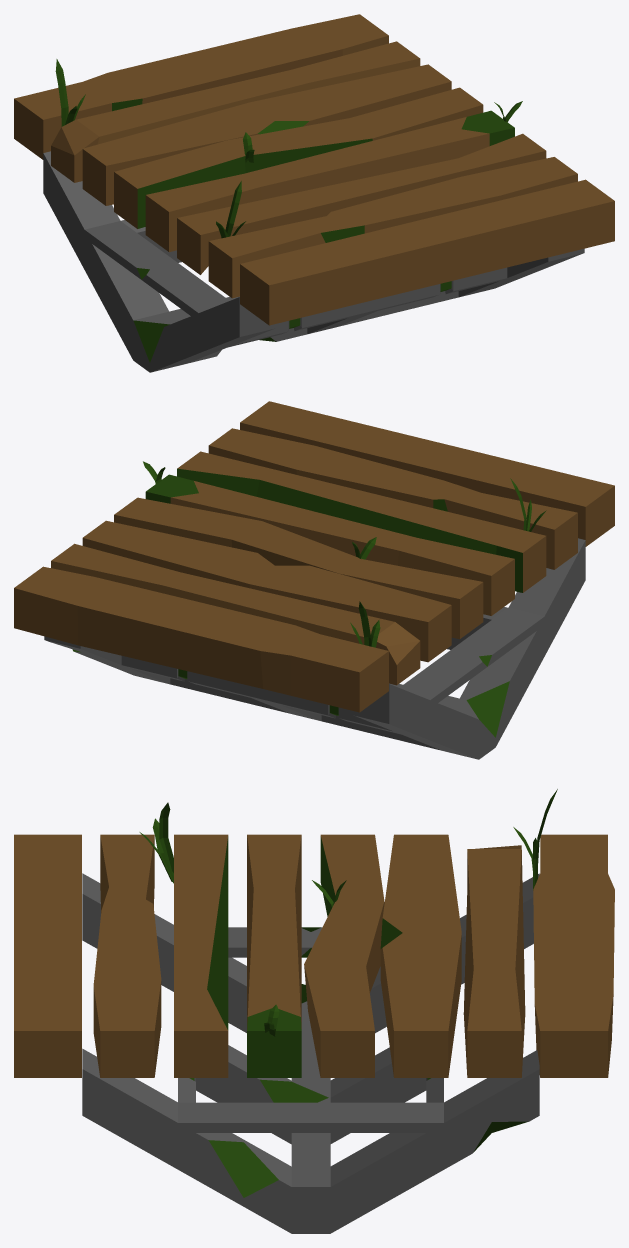
File: PonteMeioDesgaste.glb
3 views of the same model, one above another, from view 1: azimuth 30°, elevation 25°; view 2: azimuth 150°, elevation 25°; view 3: azimuth 270°, elevation 25° (orthographic). The views are drawn at different scales.
Parts seen in each view (by area): view 1: Cube; view 2: Cube; view 3: Cube.
Part boxes in pixels (left/top/right/bottom): Cube: left=14, top=14, right=614, bottom=372; Cube: left=14, top=401, right=614, bottom=759; Cube: left=14, top=789, right=614, bottom=1233.
Size of the model in its own units: 18.9 by 11.2 by 23.28.
